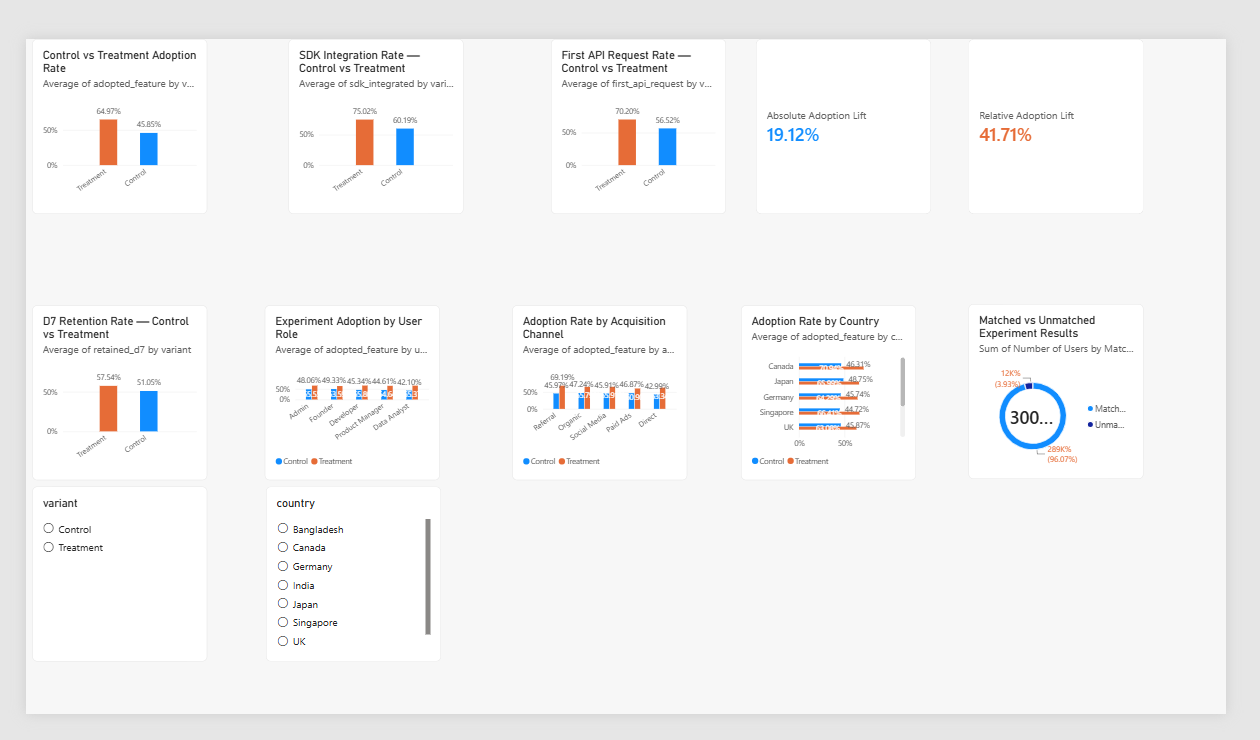

What the dashboard file says about the page in this screenshot:
{"tool":"powerbi","page":{"name":"Experiment & Causal Impact","canvas":[1920,1080],"ordinal":2},"visuals":[{"type":"clusteredColumnChart","title":"Control vs Treatment Adoption Rate","fields":{"Category":["experiment_assignments.variant"],"Y":["Avg(experiment_outcomes.adopted_feature)"]},"box":[10,0,280,280],"z":0},{"type":"clusteredColumnChart","title":"SDK Integration Rate — Control vs Treatment","fields":{"Category":["experiment_assignments.variant"],"Y":["Avg(experiment_outcomes.sdk_integrated)"]},"box":[419.9,0,280,280],"z":1000},{"type":"clusteredColumnChart","title":"First API Request Rate — Control vs Treatment","fields":{"Category":["experiment_assignments.variant"],"Y":["Avg(experiment_outcomes.first_api_request)"]},"box":[839.8,0,280,280],"z":2000},{"type":"clusteredColumnChart","title":"D7 Retention Rate — Control vs Treatment","fields":{"Category":["experiment_assignments.variant"],"Y":["Avg(experiment_outcomes.retained_d7)"]},"box":[10.3,426.1,280,280],"z":3000},{"type":"cardVisual","fields":{"Data":["Measures_1.Absolute Adoption Lift"]},"box":[1167.1,0,280,280],"z":4000},{"type":"cardVisual","fields":{"Data":["Measures_1.Relative Adoption Lift"]},"box":[1508.8,0,280,280],"z":5000},{"type":"clusteredColumnChart","title":"Experiment Adoption by User Role","fields":{"Category":["users.user_role"],"Series":["experiment_assignments.variant"],"Y":["Avg(experiment_outcomes.adopted_feature)"]},"box":[382.8,426.1,280,280],"z":6000},{"type":"clusteredColumnChart","title":"Adoption Rate by Acquisition Channel","fields":{"Category":["users.acquisition_channel"],"Series":["experiment_assignments.variant"],"Y":["Avg(experiment_outcomes.adopted_feature)"]},"box":[778,426.1,280,280],"z":7000},{"type":"clusteredBarChart","title":"Adoption Rate by Country","fields":{"Category":["users.country"],"Series":["experiment_assignments.variant"],"Y":["Avg(experiment_outcomes.adopted_feature)"]},"box":[1144.4,426.1,279.9,279.9],"z":8000},{"type":"donutChart","title":"Matched vs Unmatched Experiment Results","fields":{"Category":["Matching_Summary.Matching Status"],"Y":["Sum(Matching_Summary.Number of Users)"]},"box":[1507.8,425,280,280],"z":9000},{"type":"listSlicer","fields":{"Values":["experiment_assignments.variant"]},"box":[10,716,280,280],"z":10000},{"type":"listSlicer","fields":{"Values":["users.country"]},"box":[383,716,280,280],"z":11000}]}

Visuals, with their boxes on the page's 1920x1080 design canvas (x1, y1, x2, y2). These are canvas units, not pixel positions in the 1260x740 screenshot, which may show the page scaled, cropped or inside an application window:
"Control vs Treatment Adoption Rate" clusteredColumnChart: pyautogui.locateOnScreen(10, 0, 290, 280)
"SDK Integration Rate — Control vs Treatment" clusteredColumnChart: pyautogui.locateOnScreen(420, 0, 700, 280)
"First API Request Rate — Control vs Treatment" clusteredColumnChart: pyautogui.locateOnScreen(840, 0, 1120, 280)
"D7 Retention Rate — Control vs Treatment" clusteredColumnChart: pyautogui.locateOnScreen(10, 426, 290, 706)
cardVisual - Measures_1.Absolute Adoption Lift: pyautogui.locateOnScreen(1167, 0, 1447, 280)
cardVisual - Measures_1.Relative Adoption Lift: pyautogui.locateOnScreen(1509, 0, 1789, 280)
"Experiment Adoption by User Role" clusteredColumnChart: pyautogui.locateOnScreen(383, 426, 663, 706)
"Adoption Rate by Acquisition Channel" clusteredColumnChart: pyautogui.locateOnScreen(778, 426, 1058, 706)
"Adoption Rate by Country" clusteredBarChart: pyautogui.locateOnScreen(1144, 426, 1424, 706)
"Matched vs Unmatched Experiment Results" donutChart: pyautogui.locateOnScreen(1508, 425, 1788, 705)
listSlicer - experiment_assignments.variant: pyautogui.locateOnScreen(10, 716, 290, 996)
listSlicer - users.country: pyautogui.locateOnScreen(383, 716, 663, 996)
